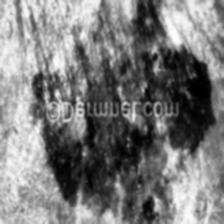Potentially Malignant Skin Tumors: (45, 119, 205, 224), (41, 5, 207, 99)
